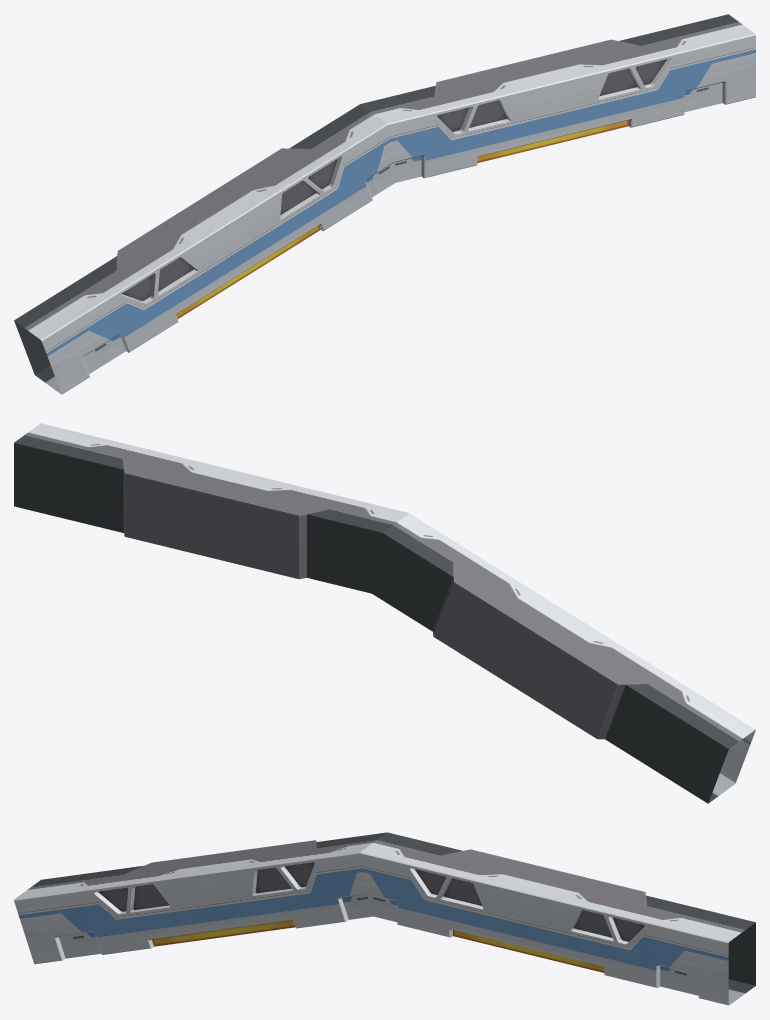
File: mesh_1002_zhucheng_zjz_baobian002b.FBX
3 views of the same model, one above another, from view 1: azimuth 30°, elevation 25°; view 2: azimuth 150°, elevation 25°; view 3: azimuth 330°, elevation 25° (orthographic).
Visible parts, largest first — view 1: mesh_1002_zhucheng_zjz_baobian002b; view 2: mesh_1002_zhucheng_zjz_baobian002b; view 3: mesh_1002_zhucheng_zjz_baobian002b.
Boxes of the visible parts, x1,y1,x2,y2 form: mesh_1002_zhucheng_zjz_baobian002b: [14, 14, 755, 394]; mesh_1002_zhucheng_zjz_baobian002b: [14, 423, 755, 803]; mesh_1002_zhucheng_zjz_baobian002b: [14, 832, 755, 1005].
Size of the model in its own units: 2422 by 620 by 181.
